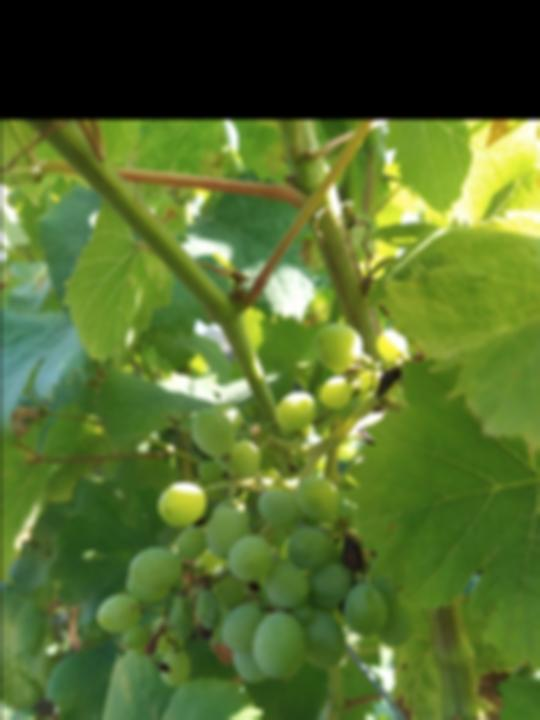grape: (95, 320, 410, 693)
